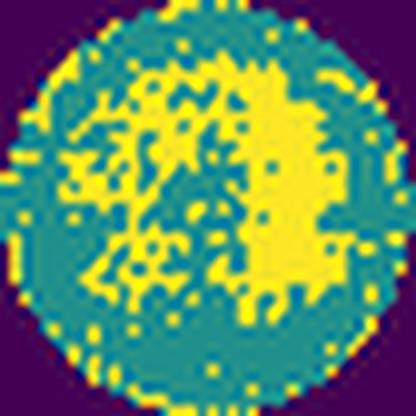Donut: (56, 48, 360, 328)
